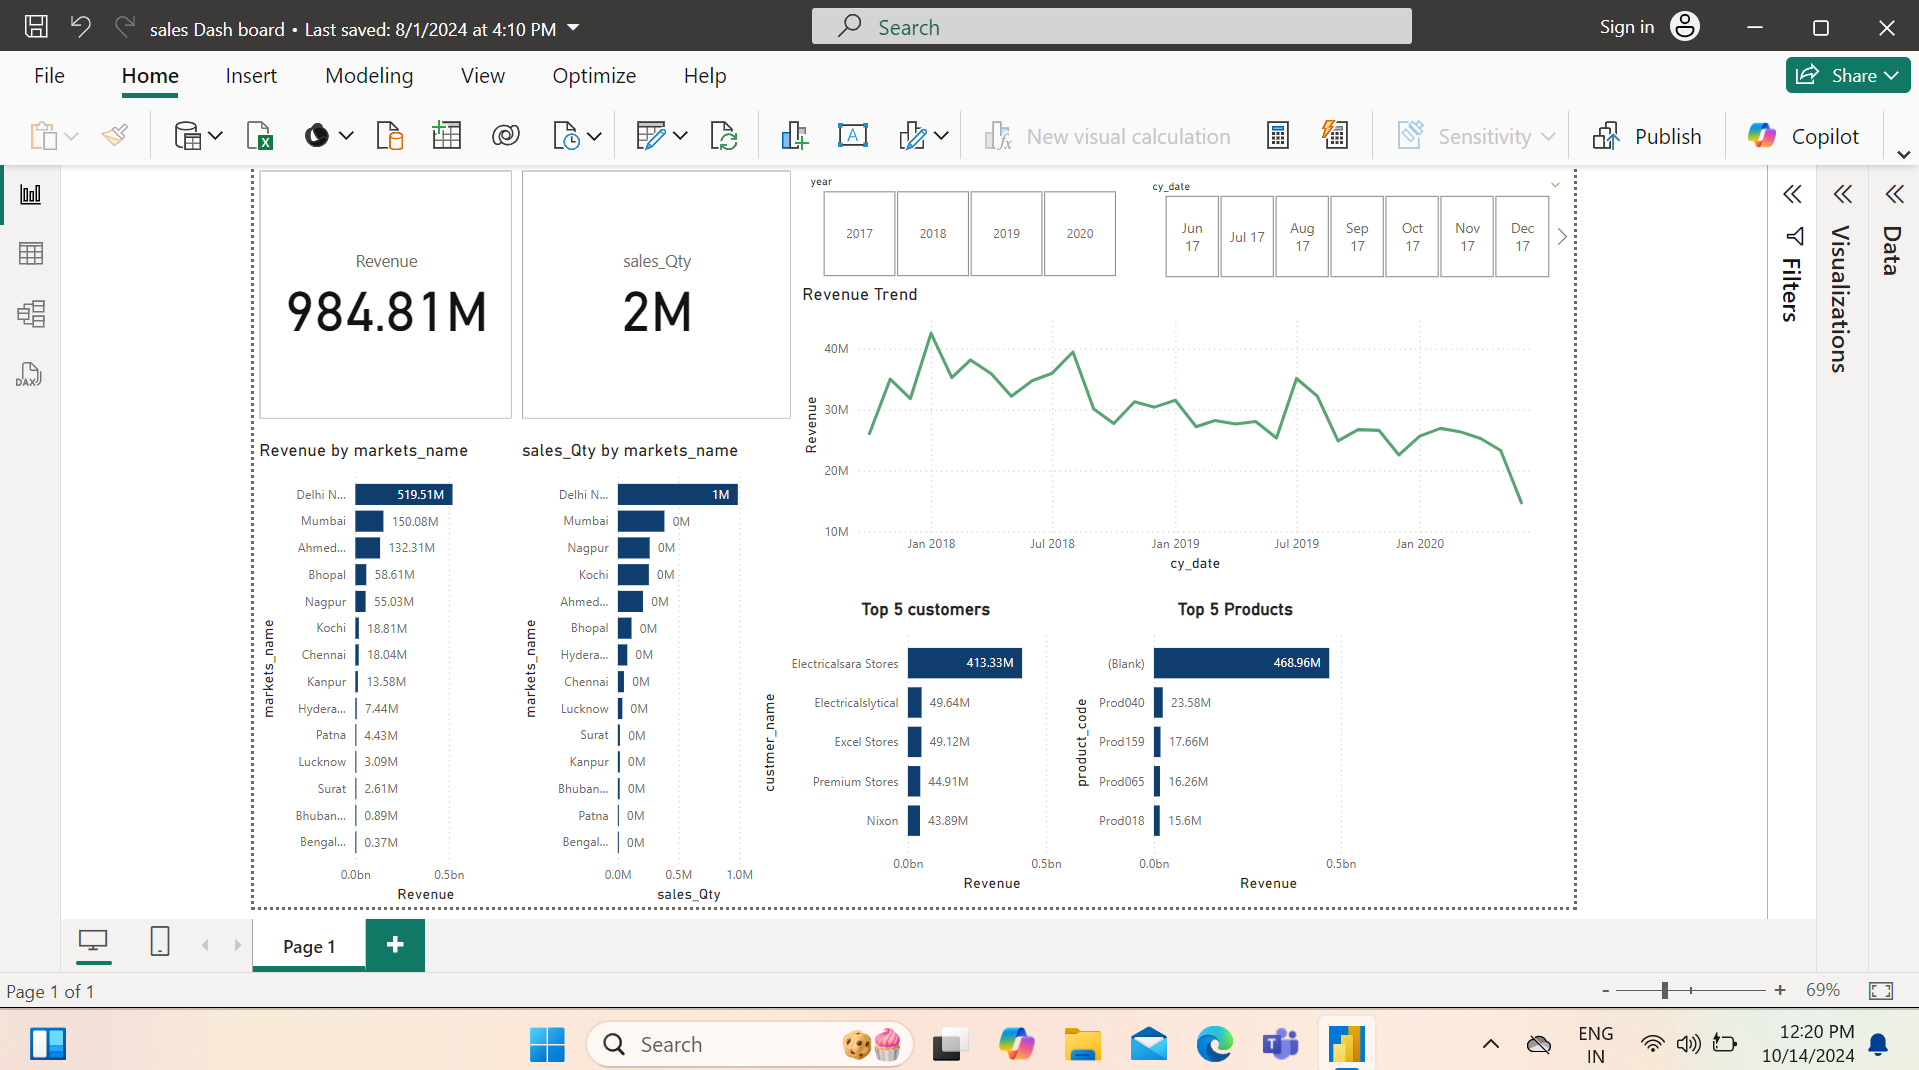

What the dashboard file says about the page in this screenshot:
{"tool":"powerbi","page":{"name":"Page 1","canvas":[1280,720],"ordinal":0},"visuals":[{"type":"cardVisual","fields":{"Data":["tabel measures.Revenue"]},"box":[0,0,255,251.7],"z":0},{"type":"cardVisual","fields":{"Data":["tabel measures.sales_Qty"]},"box":[255,0,271.7,251.7],"z":1000},{"type":"barChart","fields":{"Y":["tabel measures.Revenue"],"Category":["sales markets.markets_name"]},"box":[0,266.7,255,453.3],"z":2000},{"type":"barChart","fields":{"Y":["tabel measures.sales_Qty"],"Category":["sales markets.markets_name"]},"box":[255,266.7,255,453.3],"z":3000},{"type":"slicer","fields":{"Values":["sales date.cy_date"]},"box":[858.3,8.3,421.7,106.7],"z":4000},{"type":"slicer","fields":{"Values":["sales date.year"]},"box":[526.7,5,333.3,110],"z":5000},{"type":"barChart","title":"Top 5 customers","fields":{"Y":["tabel measures.Revenue"],"Category":["sales customers.custmer_name"]},"box":[486.7,420,331.7,288.3],"z":6000},{"type":"barChart","title":"Top 5 Products","fields":{"Y":["tabel measures.Revenue"],"Category":["sales products.product_code"]},"box":[788.3,420,326.7,288.3],"z":7000},{"type":"lineChart","title":"Revenue Trend","fields":{"Y":["tabel measures.Revenue"],"Category":["sales date.cy_date"]},"box":[526.7,115,731.7,283.3],"z":8000}]}

Visuals, with their boxes on the page's 1280x720 design canvas (x1, y1, x2, y2). These are canvas units, not pixel positions in the 1919x1070 screenshot, which may show the page scaled, cropped or inside an application window:
cardVisual - tabel measures.Revenue: left=0, top=0, right=255, bottom=252
cardVisual - tabel measures.sales_Qty: left=255, top=0, right=527, bottom=252
barChart - tabel measures.Revenue x sales markets.markets_name: left=0, top=267, right=255, bottom=720
barChart - tabel measures.sales_Qty x sales markets.markets_name: left=255, top=267, right=510, bottom=720
slicer - sales date.cy_date: left=858, top=8, right=1280, bottom=115
slicer - sales date.year: left=527, top=5, right=860, bottom=115
"Top 5 customers" barChart: left=487, top=420, right=818, bottom=708
"Top 5 Products" barChart: left=788, top=420, right=1115, bottom=708
"Revenue Trend" lineChart: left=527, top=115, right=1258, bottom=398
